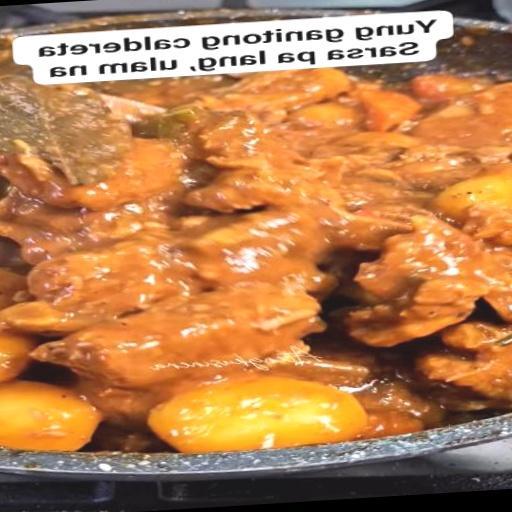pork caldereta: (0, 70, 511, 451)
